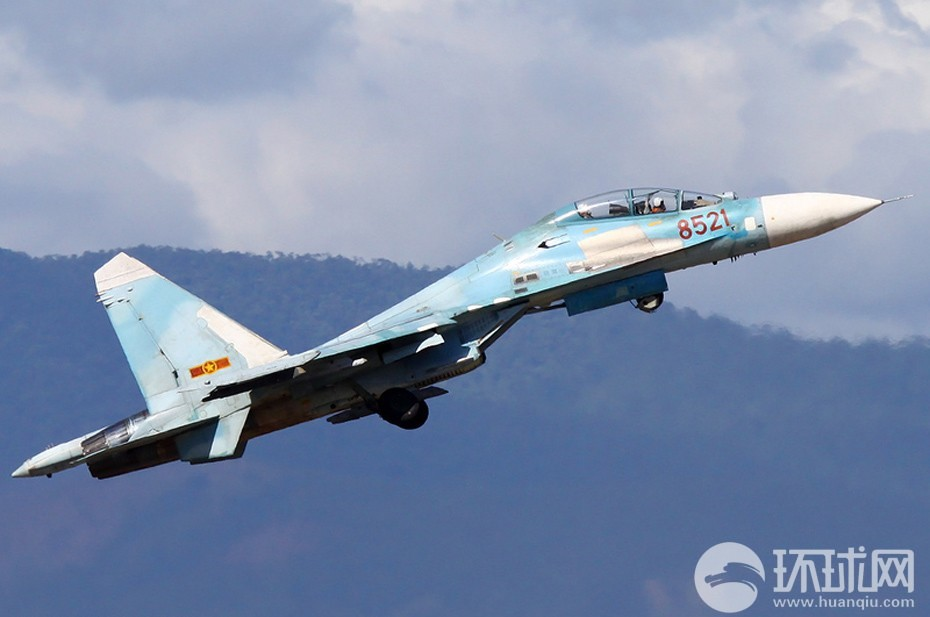airplane: (10, 183, 907, 485)
